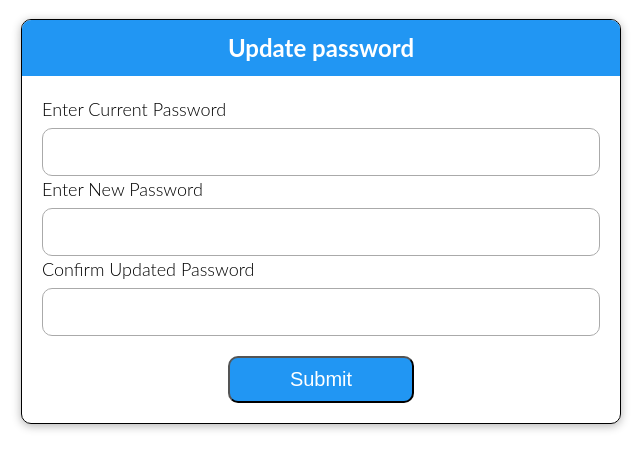
Test: <updatePassword /> › should display a success message if password successfully updates
Step 1. Type "pass1234" into the field labelled "Enter Current Password" → (321, 152), box [42,128,600,176]
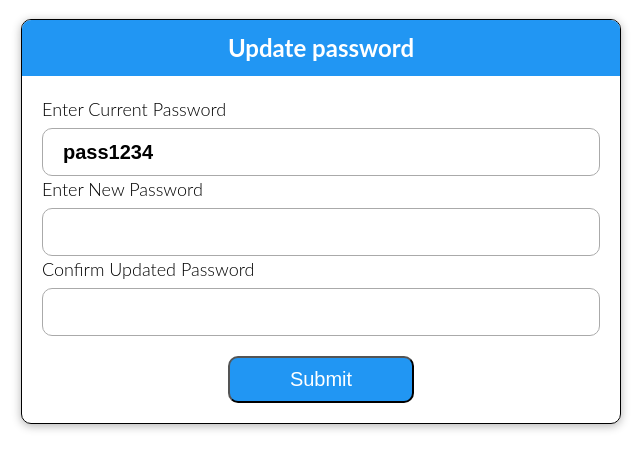
Step 2. Type "pass12345" into the field labelled "Enter New Password" → (321, 232), box [42,208,600,256]
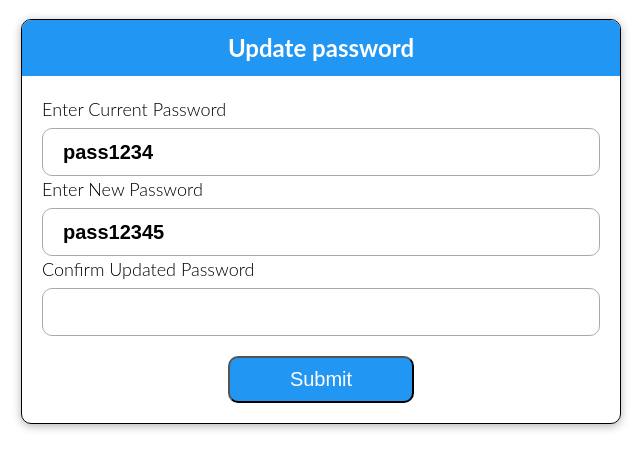
Step 3. Type "pass12345" into the field labelled "Confirm Updated Password" → (321, 312), box [42,288,600,336]
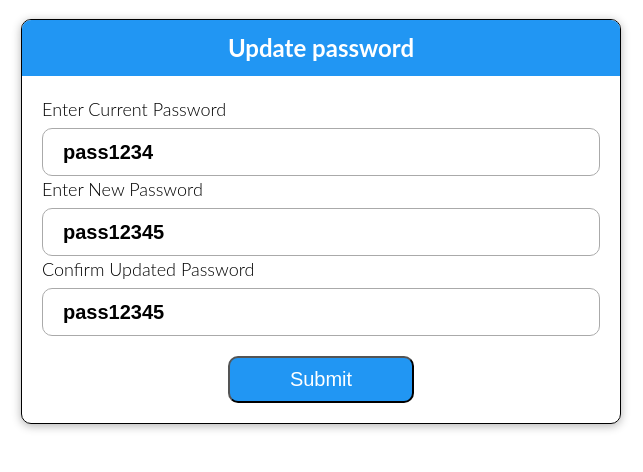
Step 4. Submit the form with test id "update-pass-form"
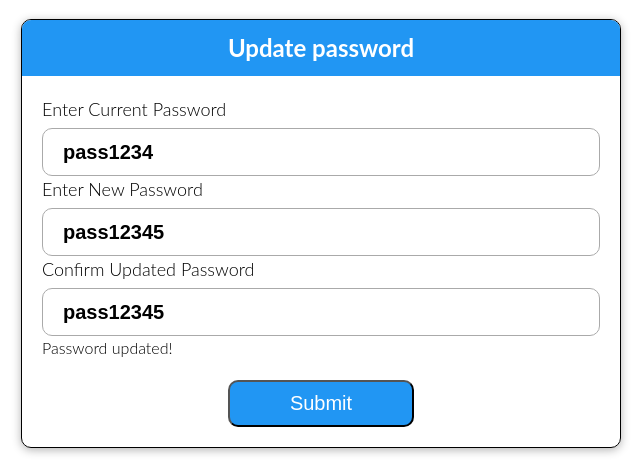
Expected: the text with test id "update-pass-message" reads "Password updated!", [42,338,172,357]
